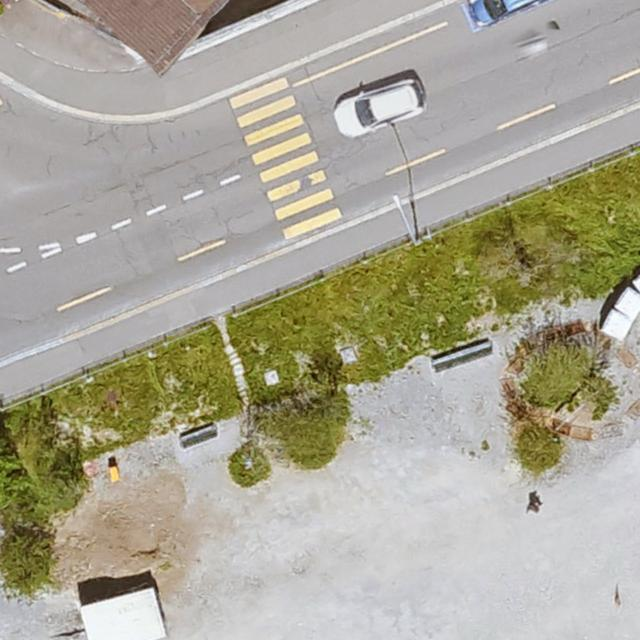tree: (0, 527, 55, 593)
